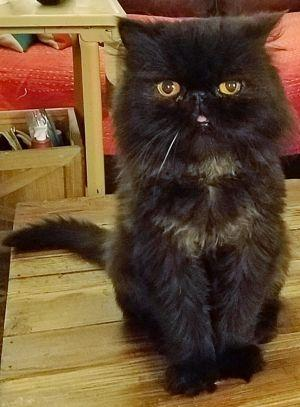persian: (111, 5, 283, 168)
